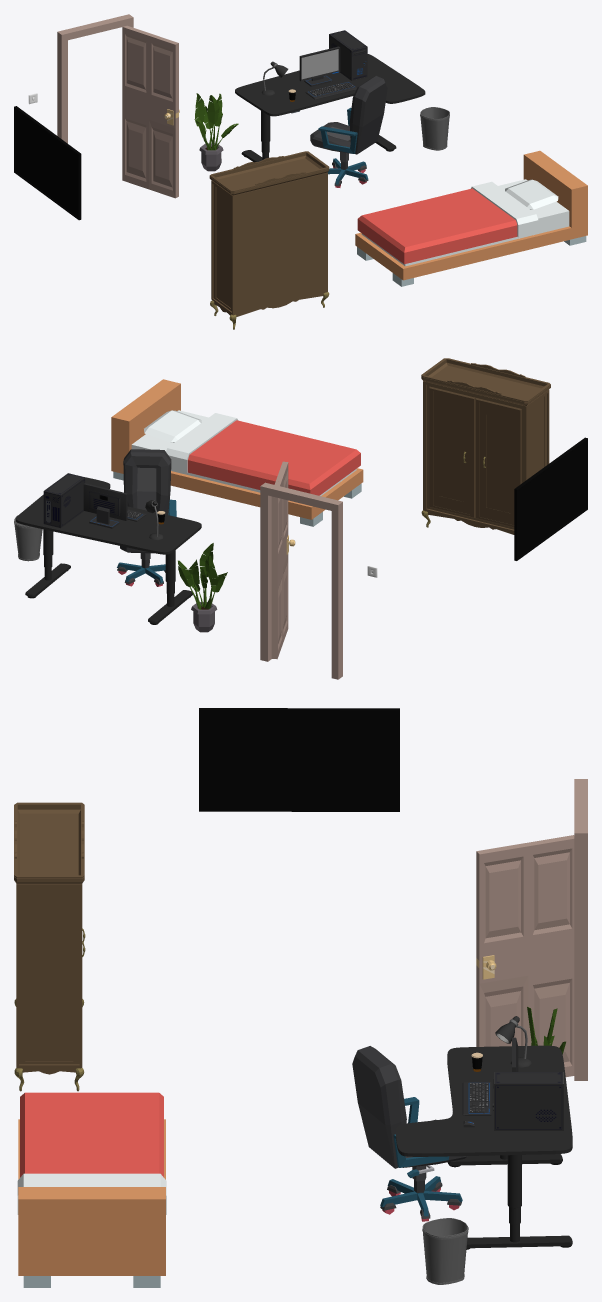
Rendered from environment.glb.
3 renders of one model, top to bottom at view 1: azimuth 30°, elevation 25°; view 2: azimuth 150°, elevation 25°; view 3: azimuth 270°, elevation 25°, orthographic. The views are drawn at different scales.
Parts seen in each view (by area): view 1: Closet, group1559002970, cover, bed_static, Tv1, desk_static, chair_static, door_static, FlowerPot4, computer_visual, Monitor, Trashcan_Small2 (+2 smaller); view 2: cover, Closet, bed_static, Closet_LeftDoor, Tv1, Closet_RightDoor, door_static, desk_static, chair_static, group1559002970, FlowerPot4, computer_visual (+5 smaller); view 3: Tv1, group1559002970, Closet, bed_static, cover, desk_static, chair_static, door_static, computer_visual, Trashcan_Small2, Cube.006_Cube.007, Keyboard1 (+2 smaller).
Part boxes in pixels (left/top/right/bottom): Closet: left=209, top=151, right=329, bottom=329; group1559002970: left=122, top=25, right=179, bottom=198; cover: left=357, top=181, right=538, bottom=264; bed_static: left=355, top=150, right=587, bottom=286; Tv1: left=14, top=106, right=81, bottom=220; desk_static: left=235, top=54, right=425, bottom=116; chair_static: left=310, top=76, right=387, bottom=187; door_static: left=57, top=14, right=133, bottom=143; FlowerPot4: left=194, top=93, right=238, bottom=171; computer_visual: left=329, top=30, right=367, bottom=80; Monitor: left=299, top=46, right=340, bottom=86; Trashcan_Small2: left=420, top=107, right=449, bottom=150; cover: left=166, top=413, right=360, bottom=495; Closet: left=421, top=358, right=550, bottom=534; bed_static: left=111, top=379, right=363, bottom=526; Closet_LeftDoor: left=429, top=386, right=475, bottom=518; Tv1: left=514, top=437, right=587, bottom=560; Closet_RightDoor: left=475, top=398, right=521, bottom=527; door_static: left=260, top=482, right=342, bottom=679; desk_static: left=16, top=477, right=201, bottom=554; chair_static: left=117, top=449, right=176, bottom=586; group1559002970: left=271, top=461, right=295, bottom=659; FlowerPot4: left=178, top=543, right=227, bottom=632; computer_visual: left=43, top=473, right=85, bottom=528; Tv1: left=199, top=708, right=399, bottom=811; group1559002970: left=476, top=835, right=574, bottom=1077; Closet: left=14, top=802, right=84, bottom=1091; bed_static: left=18, top=1119, right=165, bottom=1287; cover: left=17, top=1092, right=166, bottom=1214; desk_static: left=396, top=1045, right=572, bottom=1156; chair_static: left=352, top=1046, right=467, bottom=1221; door_static: left=574, top=779, right=587, bottom=1080; computer_visual: left=492, top=1072, right=563, bottom=1130; Trashcan_Small2: left=422, top=1218, right=468, bottom=1284; Cube.006_Cube.007: left=466, top=1235, right=572, bottom=1248; Keyboard1: left=462, top=1082, right=491, bottom=1115.
Size of what is drawn, in the model's own units: 9.79 by 3.4 by 7.
Materials: 30 (2 with a texture image).
